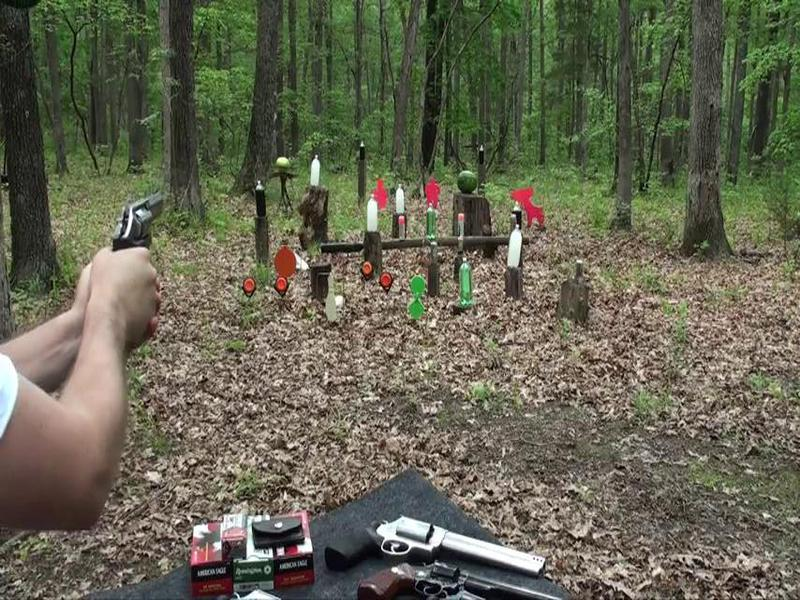Revolver: (108, 184, 179, 292)
